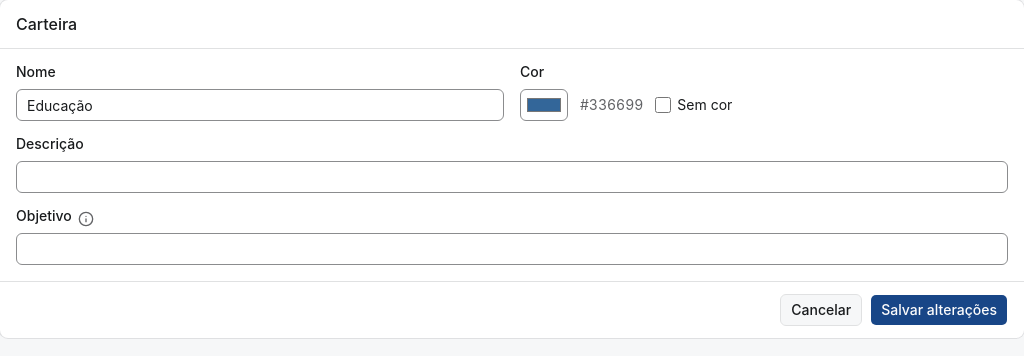
Test: WalletForm — a refusal lands under its field (BR-022-21) › says so when an edit is saved
Click the button "Salvar alterações": (939,310) [870,294,1008,326]
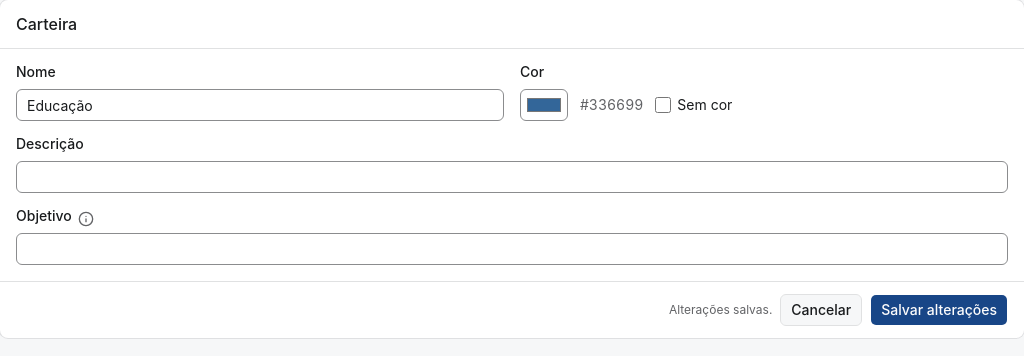
Expected: the field labelled "Nome" holds "Educação", [16,89,504,121]
Expected: the message reads "Alterações salvas.", [669,302,772,317]
